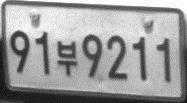1: (130, 35, 148, 81), (155, 37, 172, 84), (34, 30, 50, 75)
2: (106, 34, 128, 80)
9: (8, 30, 31, 74), (81, 33, 103, 78)
부: (56, 40, 78, 77)
